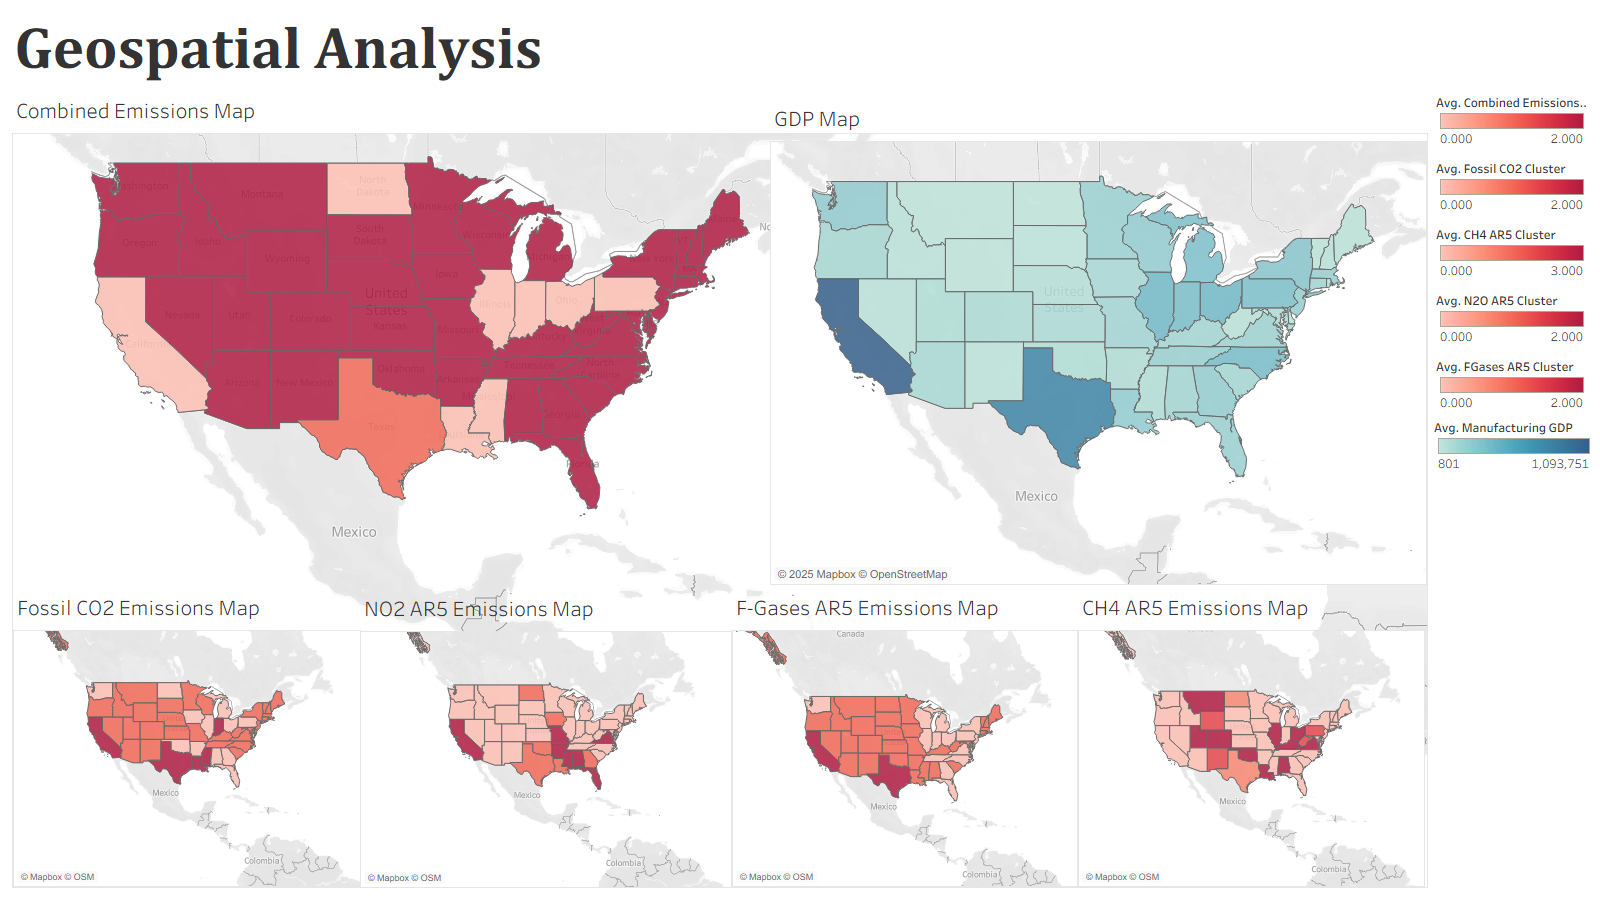

The dashboard page shown, as its layout file describes it:
{"tool":"tableau","page":{"name":"Dashboard 1","canvas":[1600,900],"ordinal":0},"visuals":[{"type":"title","box":[8,8,1584,78]},{"type":"worksheet","title":"Sheet 1","mark":"Automatic","box":[8,86,1424,806]},{"type":"legend","title":"Sheet 1","param":"[federated.1urvckd0mvvvkj17cmltt13xjr3f].[avg:Combined_Emissions_Cluster:qk]","box":[1432,86,160,65]},{"type":"worksheet","title":"Sheet 6","mark":"Automatic","box":[770,98,657,487]},{"type":"legend","title":"Sheet 2","param":"[federated.1urvckd0mvvvkj17cmltt13xjr3f].[avg:Fossil_CO2_Cluster:qk]","box":[1432,151,160,65]},{"type":"legend","title":"Sheet 3","param":"[federated.1urvckd0mvvvkj17cmltt13xjr3f].[avg:CH4_AR5_Cluster:qk]","box":[1432,216,160,65]},{"type":"legend","title":"Sheet 4","param":"[federated.1urvckd0mvvvkj17cmltt13xjr3f].[avg:N2O_AR5_Cluster:qk]","box":[1432,281,160,65]},{"type":"legend","title":"Sheet 5","param":"[federated.1urvckd0mvvvkj17cmltt13xjr3f].[avg:FGases_AR5_Cluster:qk]","box":[1432,346,160,65]},{"type":"legend","title":"Sheet 6","param":"[federated.1urvckd0mvvvkj17cmltt13xjr3f].[avg:Manufacturing_GDP:qk]","box":[1434,415,160,94]},{"type":"worksheet","title":"Sheet 2","mark":"Automatic","box":[13,587,348,300]},{"type":"worksheet","title":"Sheet 5","mark":"Automatic","box":[732,587,346,300]},{"type":"worksheet","title":"Sheet 3","mark":"Automatic","box":[1078,587,347,300]},{"type":"worksheet","title":"Sheet 4","mark":"Automatic","box":[360,588,372,300]}]}

Visuals, with their boxes in screenshot pixels (x1, y1, x2, y2), scaled from the page's 1600x900 canvas onto the 1600x900 screenshot:
title: (8,8,1592,86)
"Sheet 1" worksheet: (8,86,1432,892)
"Sheet 1" legend: (1432,86,1592,151)
"Sheet 6" worksheet: (770,98,1427,585)
"Sheet 2" legend: (1432,151,1592,216)
"Sheet 3" legend: (1432,216,1592,281)
"Sheet 4" legend: (1432,281,1592,346)
"Sheet 5" legend: (1432,346,1592,411)
"Sheet 6" legend: (1434,415,1594,509)
"Sheet 2" worksheet: (13,587,361,887)
"Sheet 5" worksheet: (732,587,1078,887)
"Sheet 3" worksheet: (1078,587,1425,887)
"Sheet 4" worksheet: (360,588,732,888)
